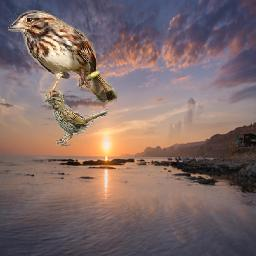Sparrow: (9, 10, 118, 106), (42, 92, 108, 147)
